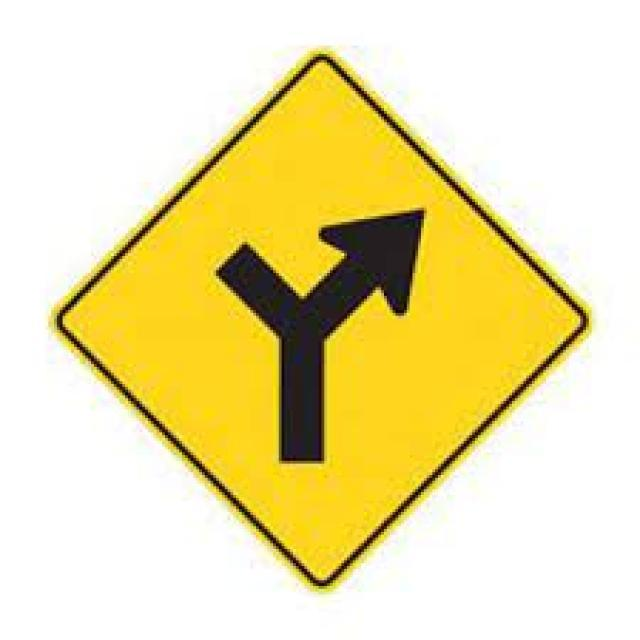y intersection: (49, 45, 584, 591)
